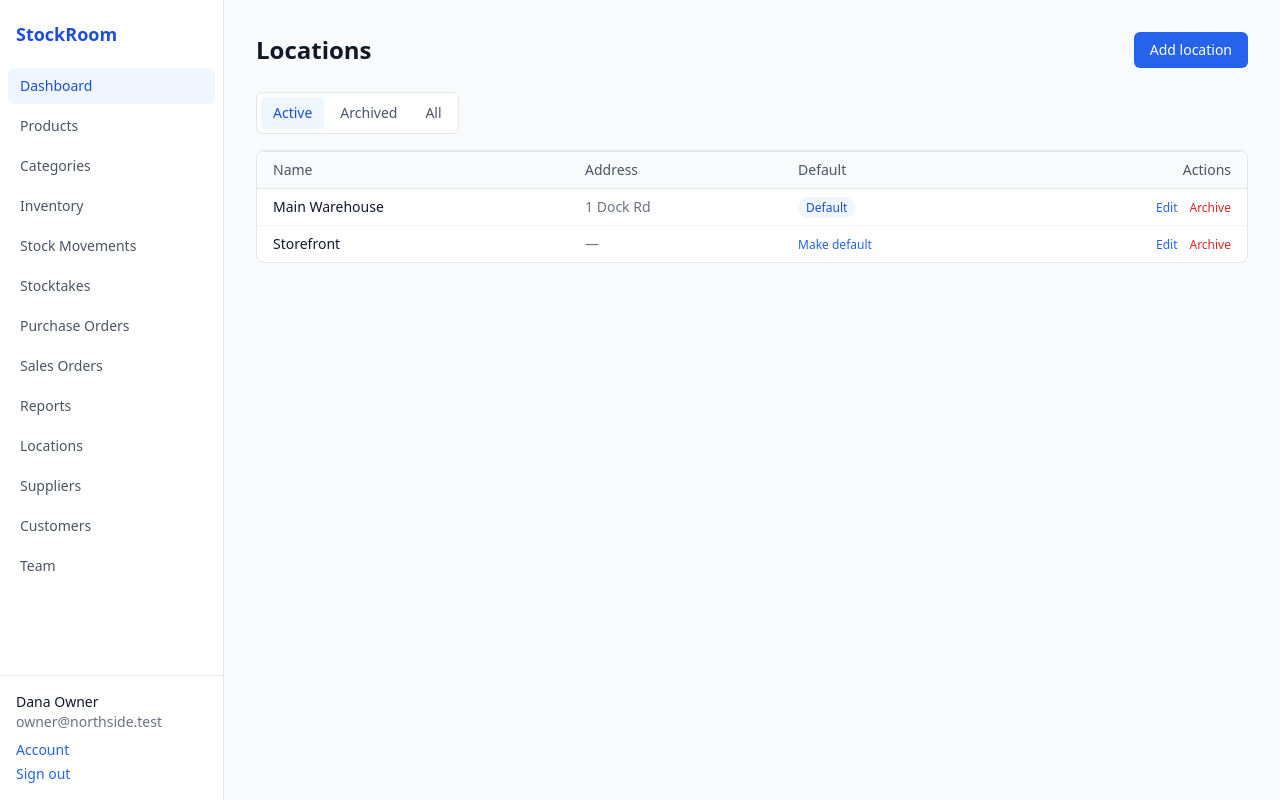
Test: LocationsPage default location › surfaces a rejected default change rather than failing silently
Expected: the text "Storefront" is shown, [257,226,569,262]
Click the button "Make default": (835, 245) [798,237,872,253]
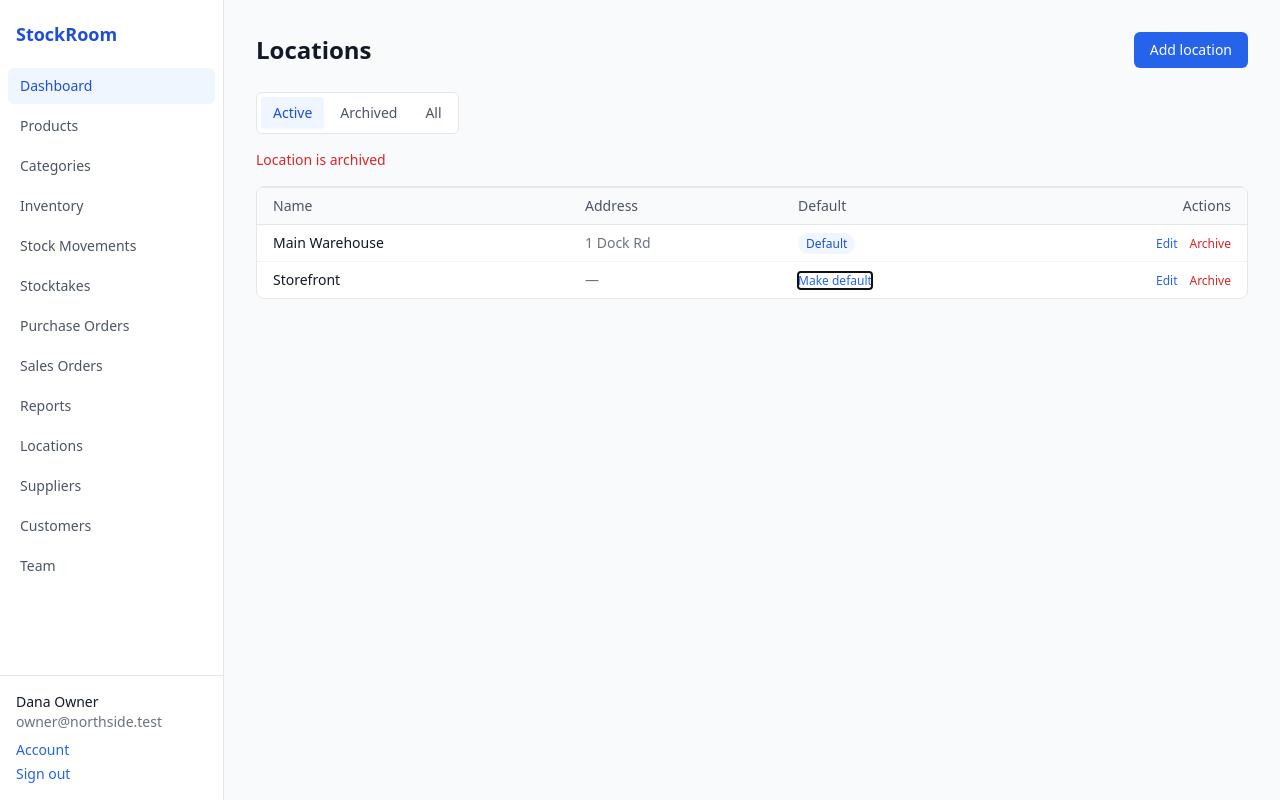
Expected: the text "Location is archived" is shown, [256,150,386,169]
